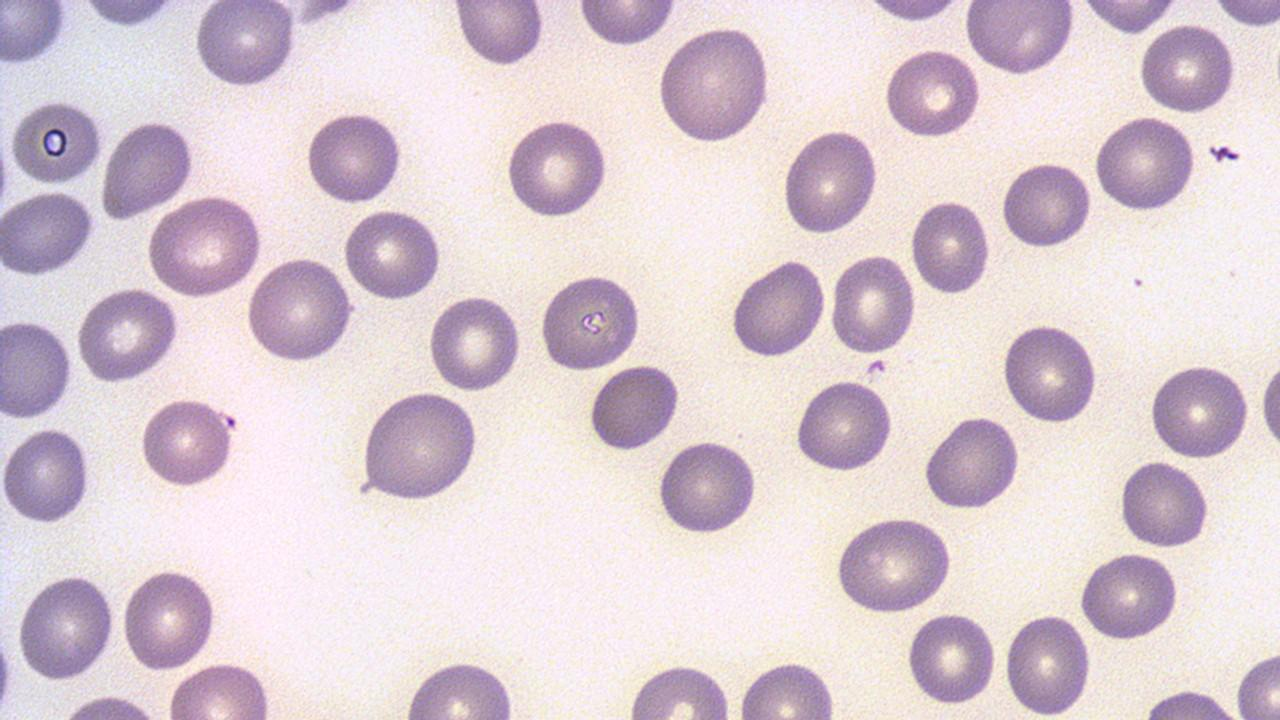RBC: (356, 386, 482, 503), (656, 23, 774, 147), (831, 514, 956, 616), (145, 193, 266, 298), (244, 255, 357, 365), (501, 113, 610, 221), (15, 570, 117, 682), (117, 563, 220, 673), (1091, 112, 1201, 214), (780, 126, 882, 236), (536, 270, 642, 374), (725, 255, 829, 360), (1001, 321, 1103, 428), (656, 435, 760, 539), (789, 376, 895, 476), (1146, 360, 1252, 460), (74, 286, 182, 384), (98, 117, 199, 221), (918, 412, 1024, 511), (340, 204, 446, 302), (302, 107, 406, 205), (1002, 609, 1096, 717), (425, 292, 526, 392), (1136, 19, 1240, 116), (1075, 549, 1181, 642), (0, 423, 93, 528), (138, 394, 238, 491), (880, 45, 983, 139), (902, 610, 999, 708), (190, 3, 298, 91), (827, 251, 916, 357), (584, 361, 684, 453), (998, 158, 1093, 252), (1116, 457, 1212, 550), (0, 188, 97, 280), (7, 96, 105, 187), (908, 193, 992, 299), (962, 3, 1078, 76), (0, 316, 74, 423), (398, 656, 520, 717), (161, 658, 278, 717), (621, 658, 737, 716), (734, 656, 841, 717), (452, 1, 545, 70), (576, 0, 679, 50), (0, 0, 70, 69), (1068, 0, 1186, 34), (1140, 684, 1244, 718), (1233, 643, 1279, 716), (74, 0, 181, 29), (1255, 341, 1279, 463), (860, 0, 971, 26), (1207, 0, 1279, 29), (0, 622, 18, 717)
